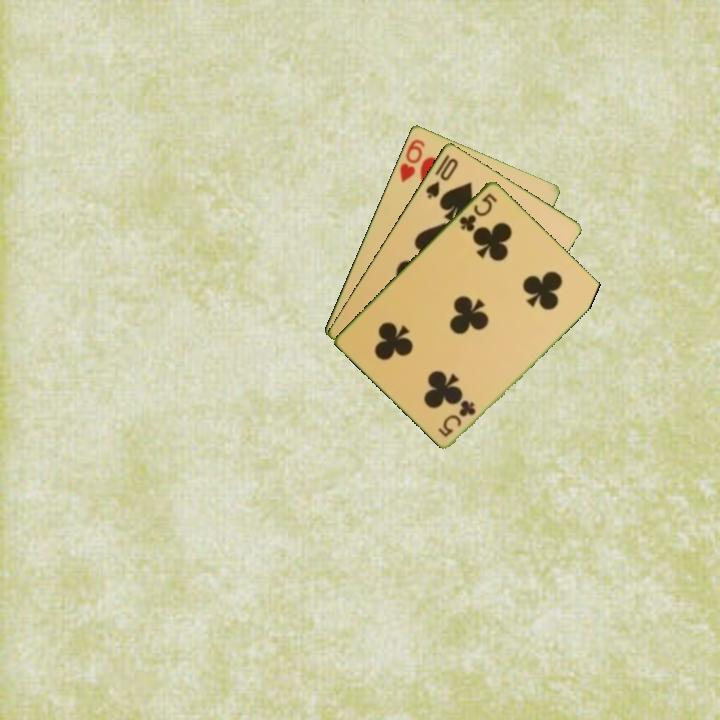10s: (422, 154, 461, 201)
5c: (455, 189, 500, 234), (435, 397, 479, 439)
6h: (396, 135, 428, 185)
